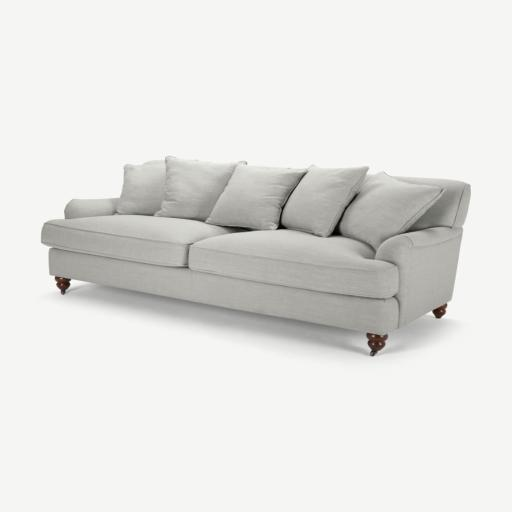back_cushion: (117, 156, 453, 249)
base: (49, 249, 398, 334)
left_arm: (375, 227, 462, 326)
legs: (366, 333, 388, 356), (55, 277, 70, 294), (432, 303, 447, 318)
right_arm: (64, 198, 119, 218)
seat_cushion: (42, 215, 398, 298)
